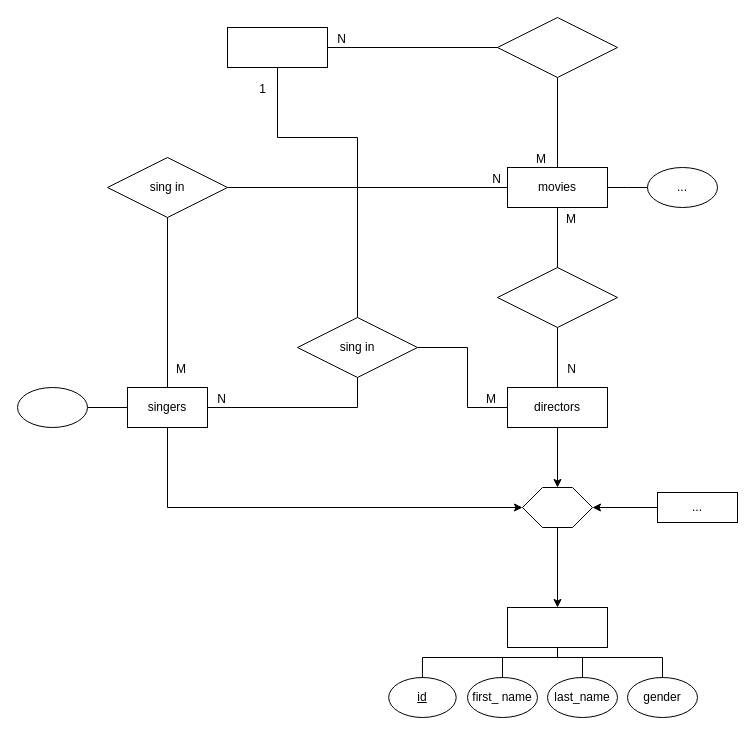
The diagram is 755 pixels wide and 735 high, and some of its shapes have lost their labels. Each missing label, with the centre of its shape:
are: (557,507)
genres: (277,47)
have: (557,47)
make: (557,297)
persons: (557,627)
vocal_range: (52,407)
